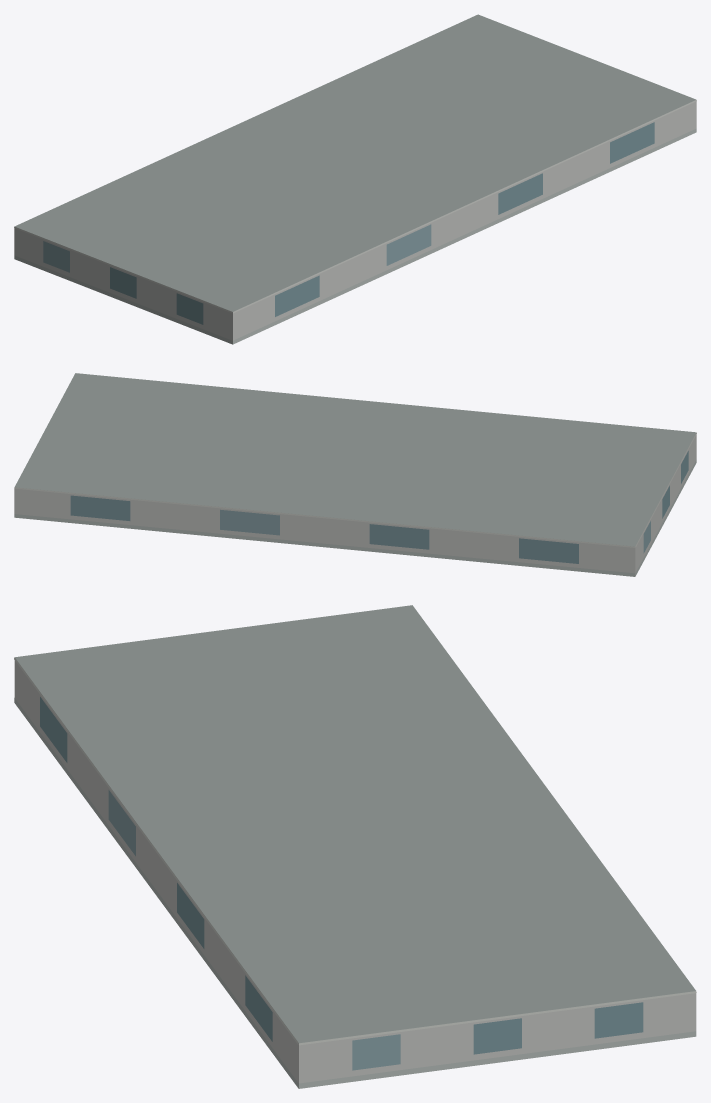
The model's file is residential-f170c742-ffa5-4450-b858-0b7222ef3fd2.glb.
3 renders of one model, top to bottom at view 1: azimuth 30°, elevation 25°; view 2: azimuth 150°, elevation 25°; view 3: azimuth 270°, elevation 25°, orthographic. The views are drawn at different scales.
Parts seen in each view (by area): view 1: residential-f170c742-ffa5-4450-b858-0b7222ef3fd2.tmp; view 2: residential-f170c742-ffa5-4450-b858-0b7222ef3fd2.tmp; view 3: residential-f170c742-ffa5-4450-b858-0b7222ef3fd2.tmp.
Boxes of the visible parts, x1,y1,x2,y2 form: residential-f170c742-ffa5-4450-b858-0b7222ef3fd2.tmp: [14, 14, 696, 344]; residential-f170c742-ffa5-4450-b858-0b7222ef3fd2.tmp: [14, 373, 696, 576]; residential-f170c742-ffa5-4450-b858-0b7222ef3fd2.tmp: [14, 605, 696, 1088].
Bounding box in the file's own units: 20.65 × 1 × 13.59.
